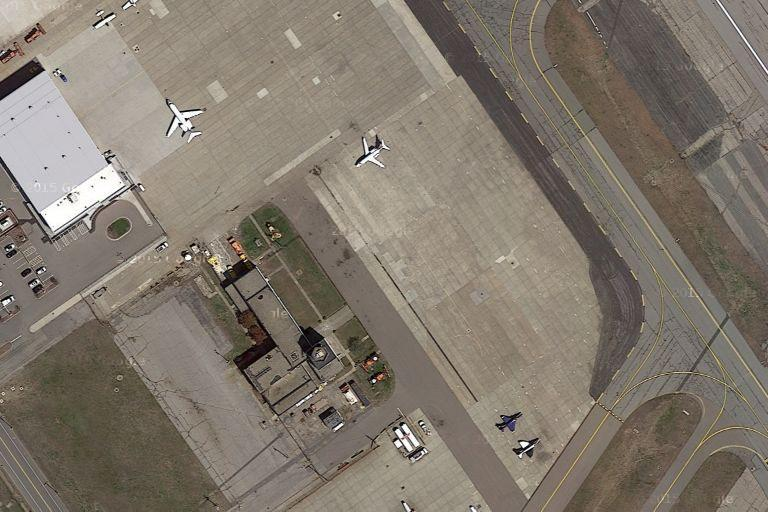plane: (159, 93, 209, 147), (353, 129, 391, 171), (491, 408, 525, 436), (512, 433, 544, 460)
